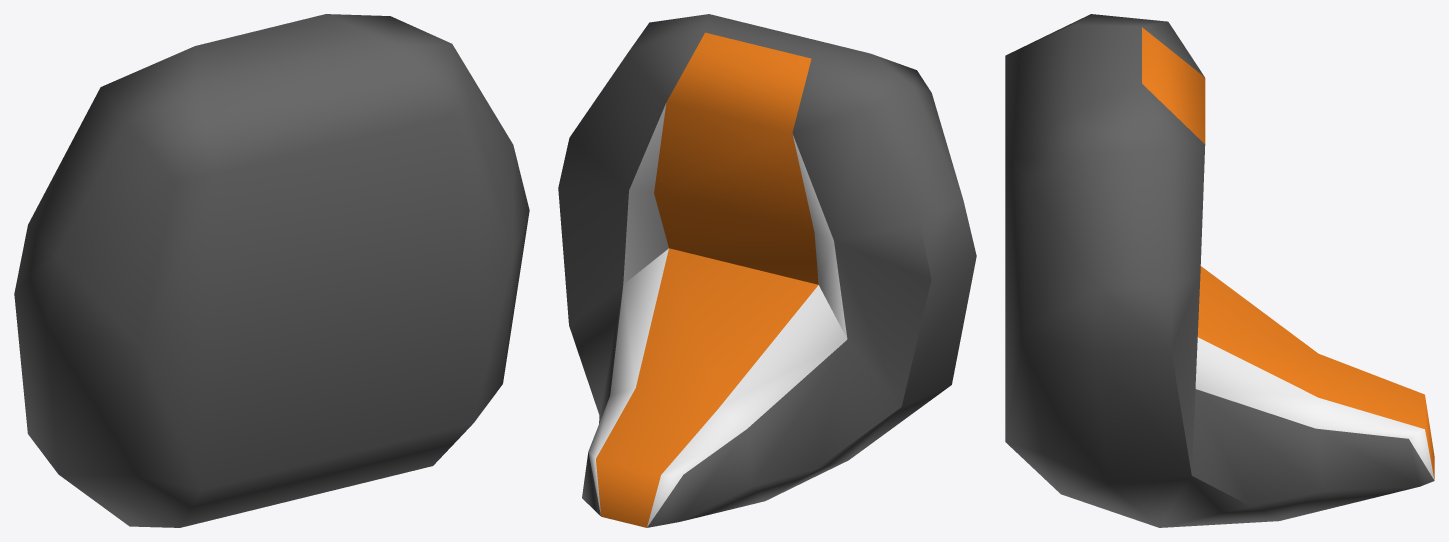
File: task-chair-c.glb
3 renders of one model, left to right at view 1: azimuth 30°, elevation 25°; view 2: azimuth 150°, elevation 25°; view 3: azimuth 270°, elevation 25°, orthographic. The views are drawn at different scales.
Visible parts, largest first — view 1: office_chair_003; view 2: office_chair_003; view 3: office_chair_003.
Part boxes in pixels (box(x1,y1,x2,y2)): office_chair_003: box(14, 14, 529, 527); office_chair_003: box(558, 14, 976, 527); office_chair_003: box(1005, 14, 1434, 527).
Bounding box in the file's own units: 0.9778 × 0.9334 × 0.8476.
Materials: 1 (1 with a texture image).
